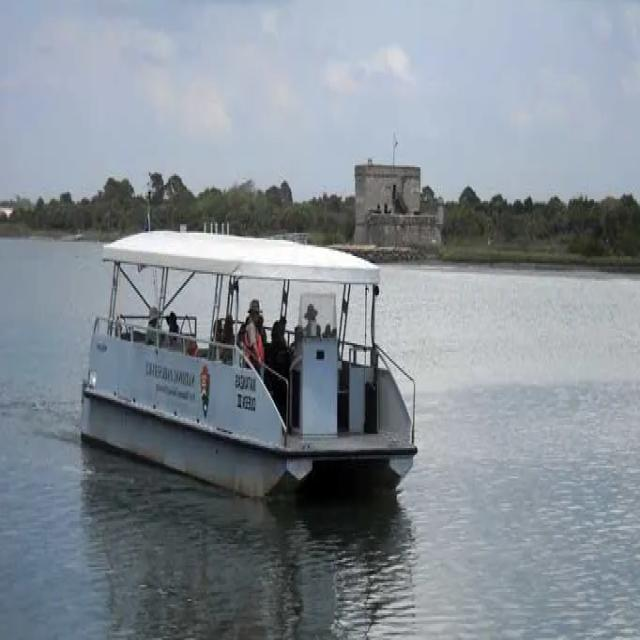houseboat: (72, 194, 426, 494)
